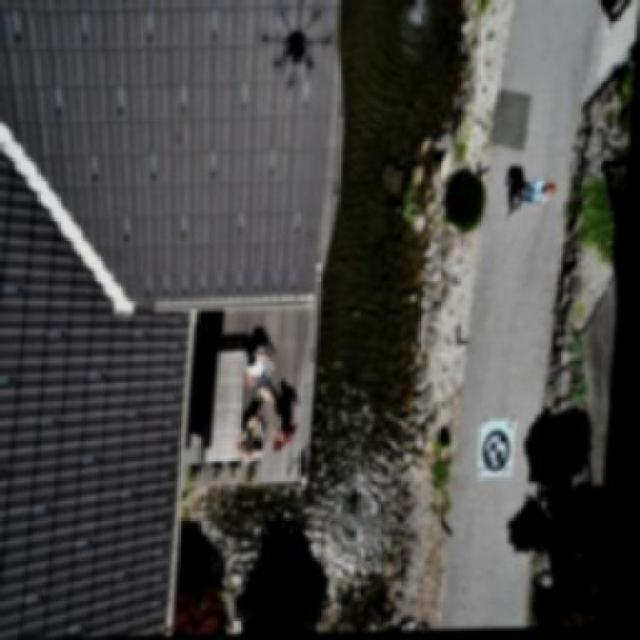Person: (506, 182, 571, 226), (254, 345, 291, 406), (240, 414, 277, 466), (278, 418, 312, 456)
